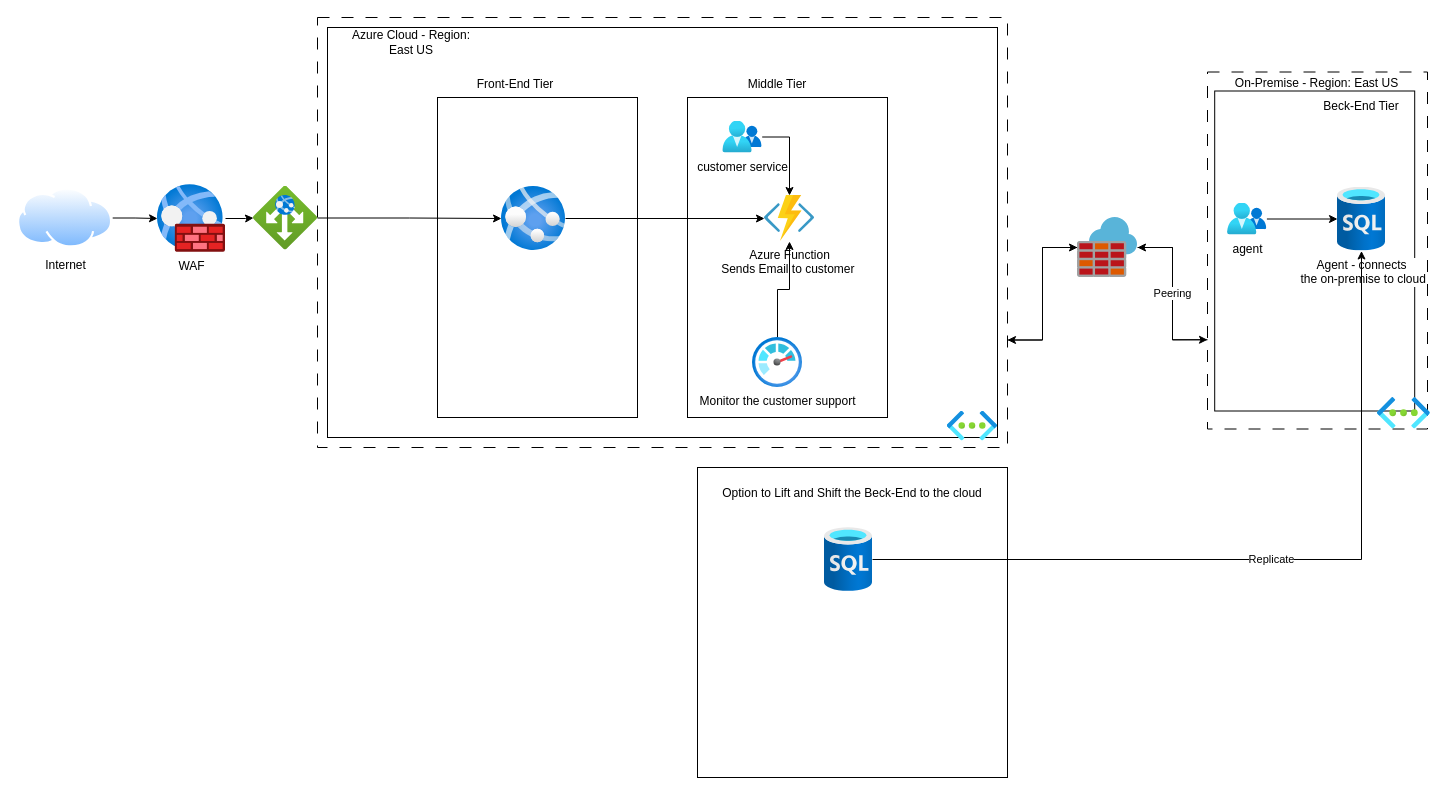
The diagram is 1447 pixels wide and 795 high, and some of its shapes have lost their labels. The box of each missing label's shape, as (x1, y1, x2, y2) in pixels:
Application GW SSL certificate: (253, 186, 317, 250)
Azure App Service .NET web Application Managed service: (501, 186, 565, 250)
Firewall: (1077, 217, 1137, 277)
SQL database connect to the Database that on-premise: (824, 527, 872, 591)
